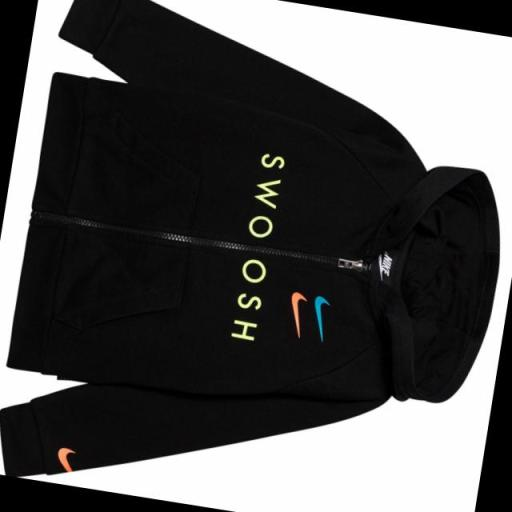Nike: (283, 288, 309, 342)
